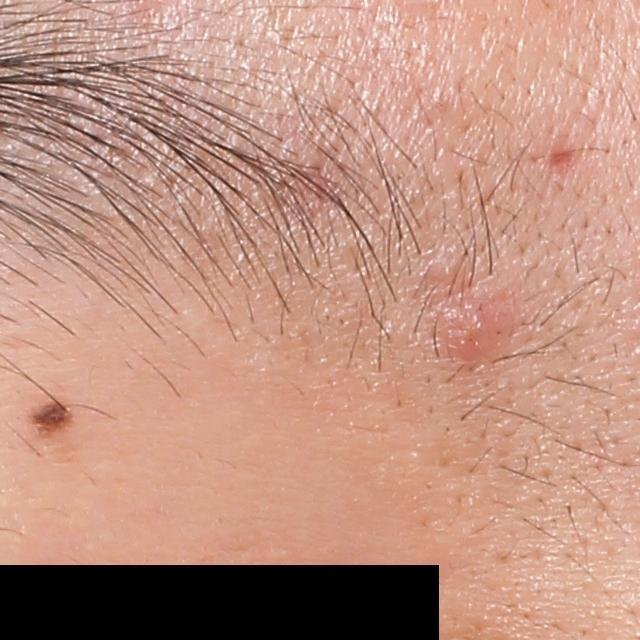nevus: (24, 401, 75, 437)
papule: (429, 285, 510, 359)
